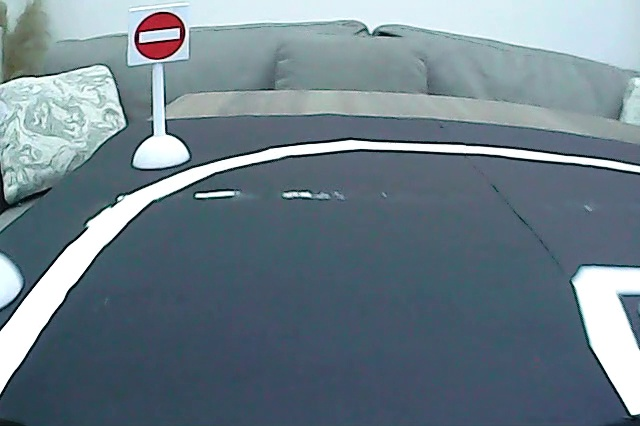do not enter: (129, 7, 189, 64)
